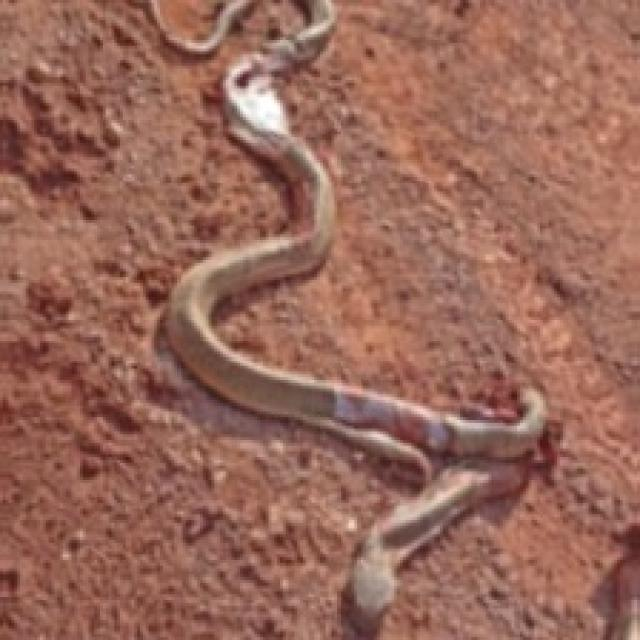king cobra: (154, 0, 543, 637)
